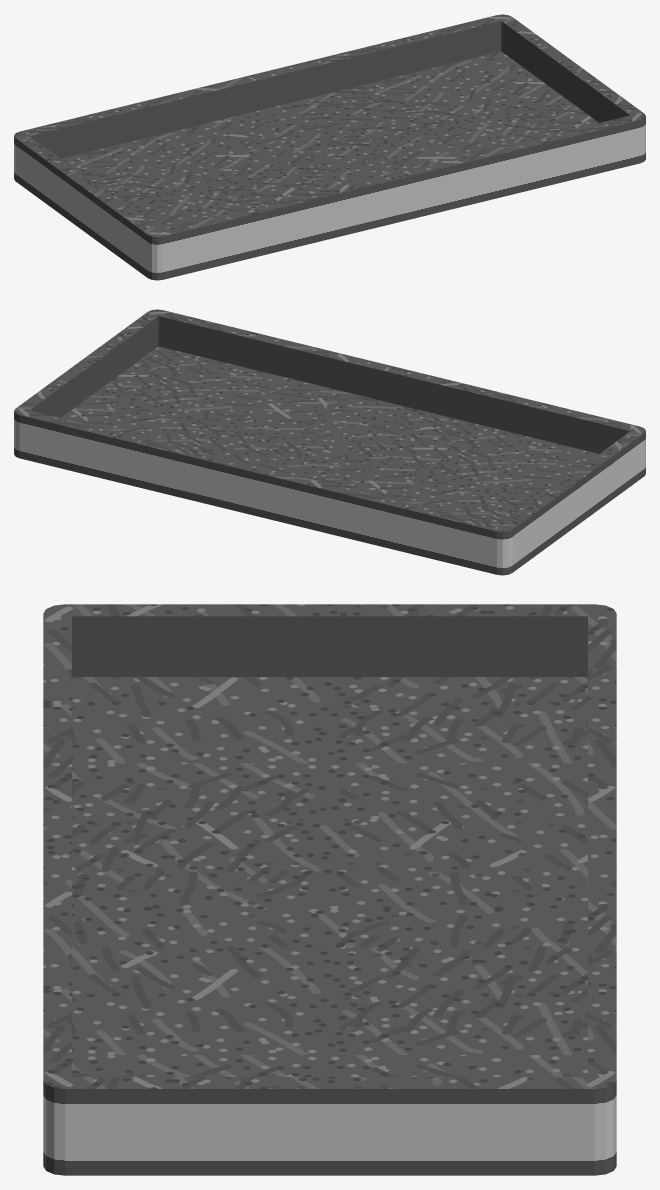
File: PollRoof_lod_1.fbx
3 renders of one model, top to bottom at view 1: azimuth 30°, elevation 25°; view 2: azimuth 150°, elevation 25°; view 3: azimuth 270°, elevation 25°, orthographic. The views are drawn at different scales.
Visible parts, largest first — view 1: PollRoof_lod_1; view 2: PollRoof_lod_1; view 3: PollRoof_lod_1.
Part boxes in pixels (box(x1,y1,x2,y2)): PollRoof_lod_1: box(14, 14, 645, 280); PollRoof_lod_1: box(14, 309, 645, 575); PollRoof_lod_1: box(43, 604, 616, 1175).
Size of the model in its own units: 1200 by 100 by 600.
2 materials, 2 textured.
